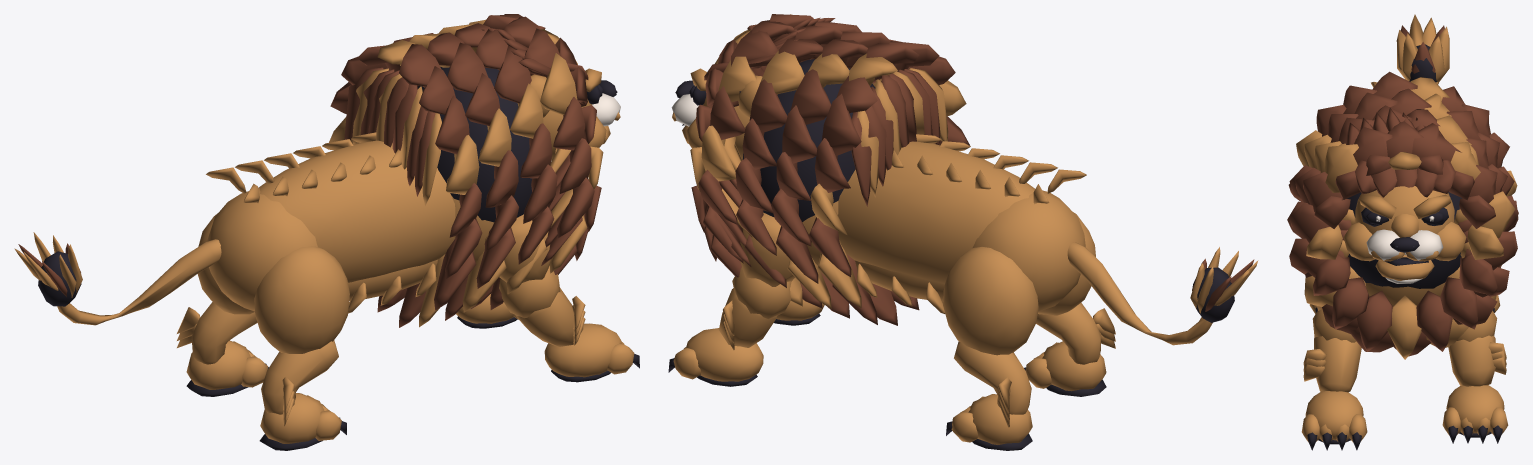
File: amb.lion.glb
3 renders of one model, left to right at view 1: azimuth 30°, elevation 25°; view 2: azimuth 150°, elevation 25°; view 3: azimuth 270°, elevation 25°, orthographic. The views are drawn at different scales.
Parts seen in each view (by area): view 1: head, body, legBR, hip, tail, pawFR, foreArmR, pawBR, pawBL, shinR, shinL, legFR (+2 smaller); view 2: head, body, legBL, hip, tail, pawFL, pawBL, pawBR, foreArmL, shinL, shinR, legFL (+2 smaller); view 3: head, pawFR, pawFL, tail, foreArmR, foreArmL, jaw, body.
Part boxes in pixels (left/top/right/bottom): head: left=329, top=14, right=620, bottom=327; body: left=206, top=132, right=493, bottom=313; legBR: left=254, top=246, right=349, bottom=353; hip: left=207, top=188, right=317, bottom=311; tail: left=14, top=232, right=221, bottom=325; pawFR: left=544, top=296, right=639, bottom=382; foreArmR: left=499, top=265, right=583, bottom=346; pawBR: left=259, top=377, right=346, bottom=450; pawBL: left=177, top=307, right=268, bottom=396; shinR: left=261, top=340, right=338, bottom=414; shinL: left=191, top=302, right=257, bottom=364; legFR: left=485, top=214, right=550, bottom=282; head: left=671, top=14, right=969, bottom=325; body: left=802, top=134, right=1086, bottom=313; legBL: left=943, top=247, right=1038, bottom=355; hip: left=972, top=189, right=1085, bottom=311; tail: left=1067, top=242, right=1258, bottom=345; pawFL: left=668, top=300, right=763, bottom=386; pawBL: left=946, top=377, right=1032, bottom=450; pawBR: left=1024, top=308, right=1115, bottom=396; foreArmL: left=719, top=267, right=791, bottom=347; shinL: left=954, top=341, right=1031, bottom=414; shinR: left=1036, top=302, right=1101, bottom=364; legFL: left=740, top=212, right=794, bottom=286; head: left=1287, top=71, right=1518, bottom=359; pawFR: left=1301, top=349, right=1367, bottom=450; pawFL: left=1442, top=342, right=1508, bottom=443; tail: left=1396, top=14, right=1449, bottom=82; foreArmR: left=1312, top=309, right=1361, bottom=392; foreArmL: left=1448, top=310, right=1497, bottom=386; jaw: left=1375, top=254, right=1434, bottom=283; body: left=1365, top=82, right=1445, bottom=305.
Size of the model in its own units: 2.36 by 1.3 by 0.8993.
